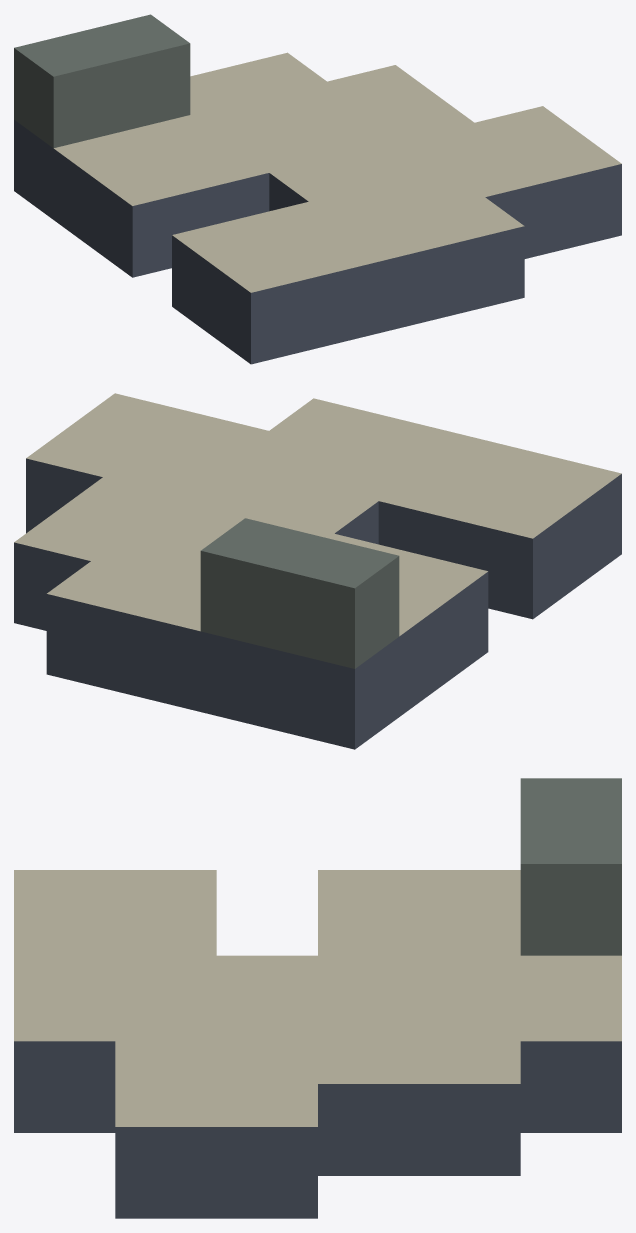
3 renders of one model, top to bottom at view 1: azimuth 30°, elevation 25°; view 2: azimuth 150°, elevation 25°; view 3: azimuth 270°, elevation 25°, orthographic. The views are drawn at different scales.
Parts seen in each view (by area): view 1: 9.1; view 2: 9.1; view 3: 9.1.
Boxes of the visible parts, x1=… form: 9.1: x1=14, y1=14, x2=621, y2=364; 9.1: x1=14, y1=393, x2=621, y2=749; 9.1: x1=14, y1=778, x2=621, y2=1218.
Bounding box in the file's own units: 600 × 200 × 600.
